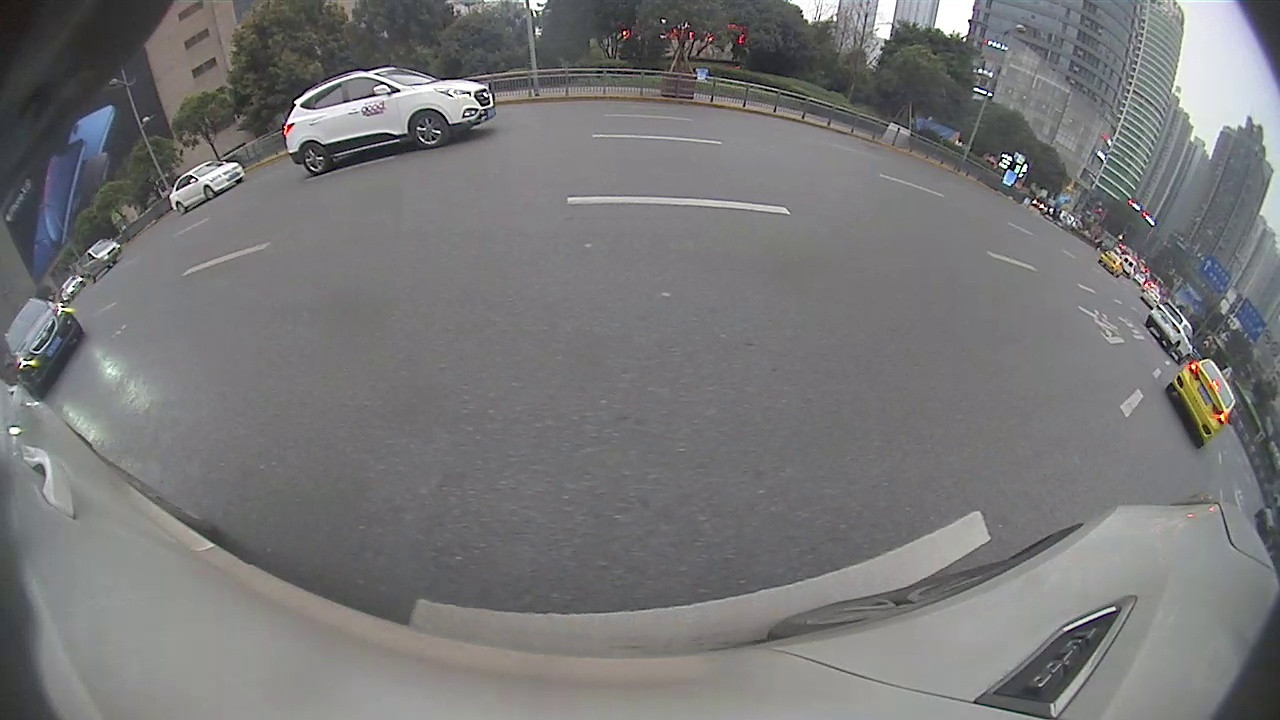car: (281, 63, 498, 178), (3, 297, 85, 402), (1165, 358, 1238, 448), (167, 160, 247, 215), (1145, 300, 1196, 366)
front: (405, 110, 449, 151), (201, 184, 215, 200)
rear: (295, 140, 332, 175), (1166, 341, 1182, 354), (172, 202, 187, 215)
